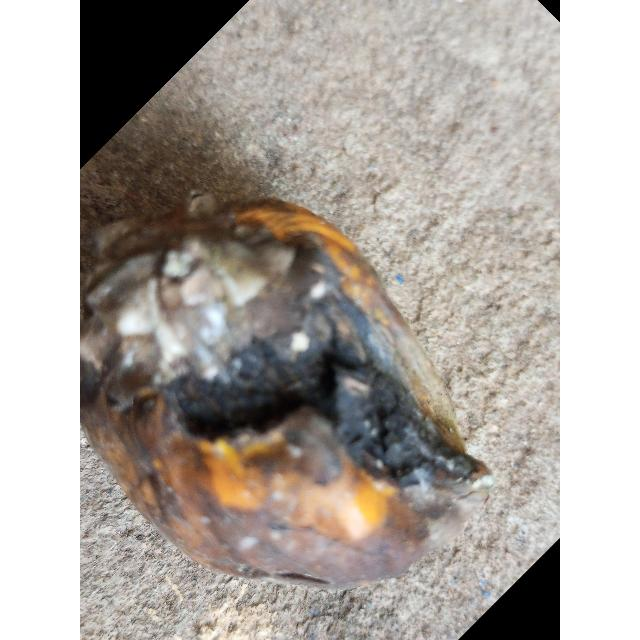damaged: (80, 196, 492, 587)
